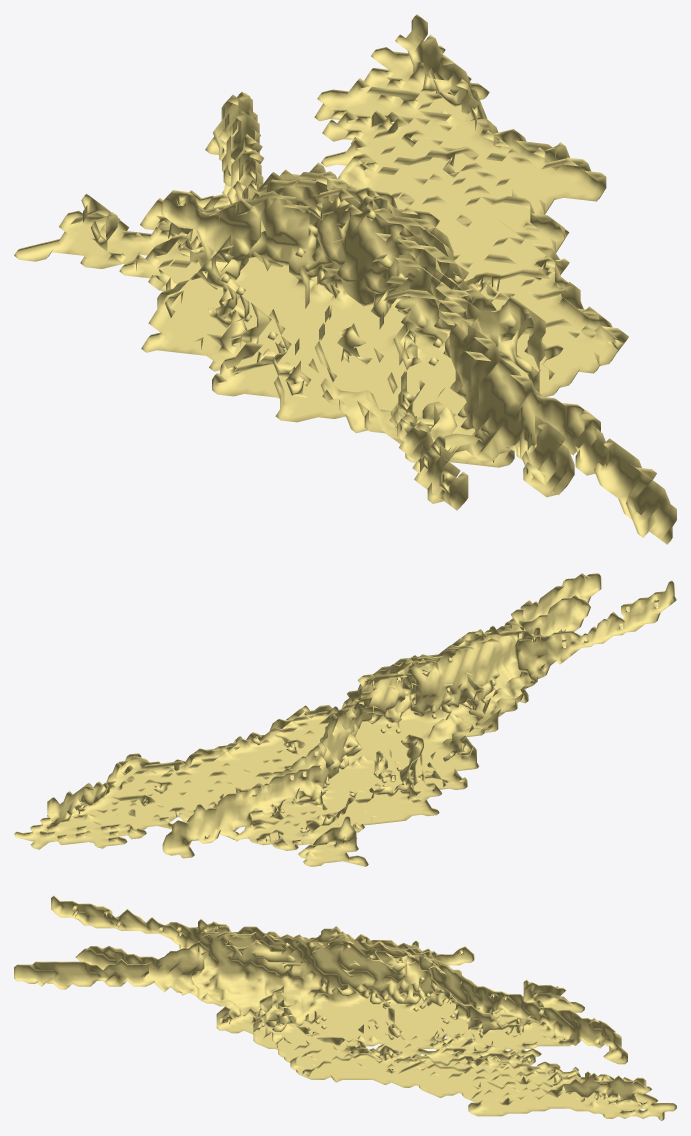
Rendered from osteocyte_23.glb.
3 renders of one model, top to bottom at view 1: azimuth 30°, elevation 25°; view 2: azimuth 150°, elevation 25°; view 3: azimuth 270°, elevation 25°, orthographic. The views are drawn at different scales.
Parts seen in each view (by area): view 1: osteocyte_23; view 2: osteocyte_23; view 3: osteocyte_23.
Boxes of the visible parts, left/top/right/bottom form: osteocyte_23: left=14, top=14, right=676, bottom=544; osteocyte_23: left=14, top=573, right=676, bottom=866; osteocyte_23: left=14, top=895, right=676, bottom=1121.
Bounding box in the file's own units: 27.44 × 8.18 × 52.
